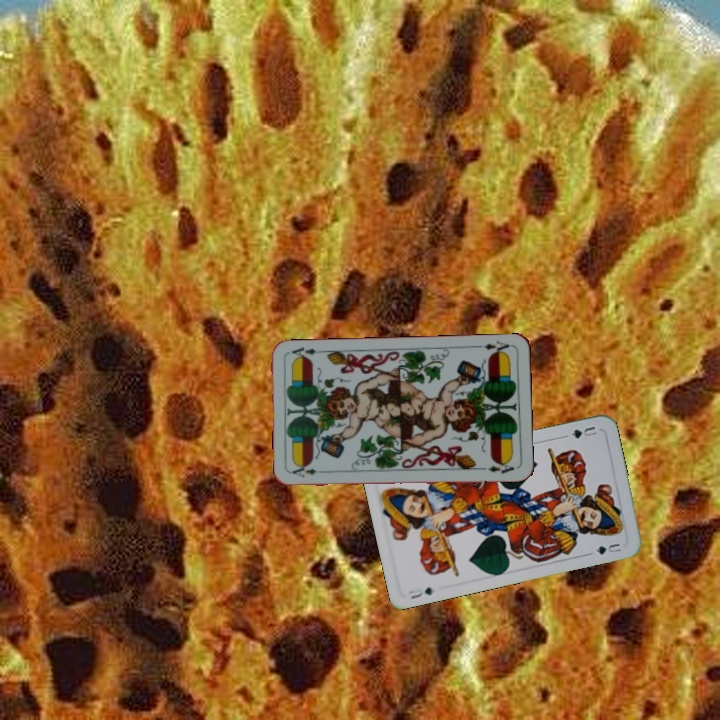EA: (473, 337, 514, 357), (288, 463, 329, 480)
GU: (567, 422, 600, 441), (405, 583, 436, 601)
